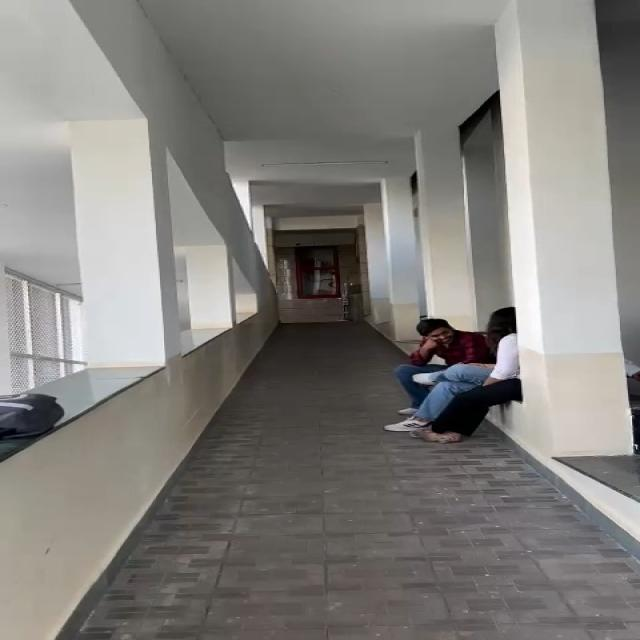floor: (147, 459, 640, 640), (262, 325, 394, 420)
moving_object: (406, 319, 539, 446)
wall: (0, 144, 259, 391), (6, 397, 138, 636), (276, 145, 418, 309)
